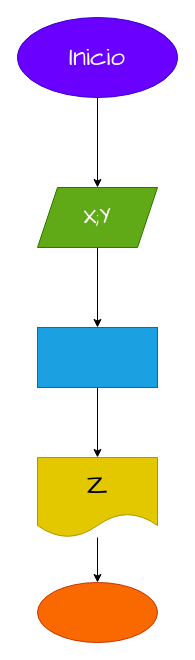
Some shapes in this 195 by 660 pixel diagram are drawn without their labels. Each missing label, with the centre of its shape:
Fin: (x=97, y=612)
Z=X^Y: (x=97, y=357)
